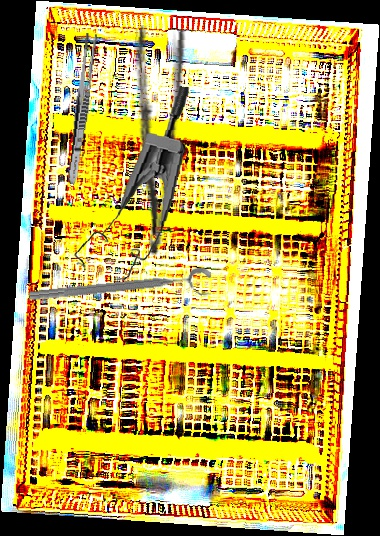Dressing Forceps: (109, 24, 190, 257), (64, 32, 99, 186)
Fixation Ring: (27, 266, 214, 316)
Speculum: (71, 78, 193, 293)
